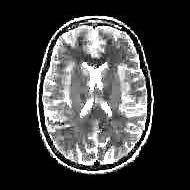Normal_Brain: (4, 11, 168, 190)
